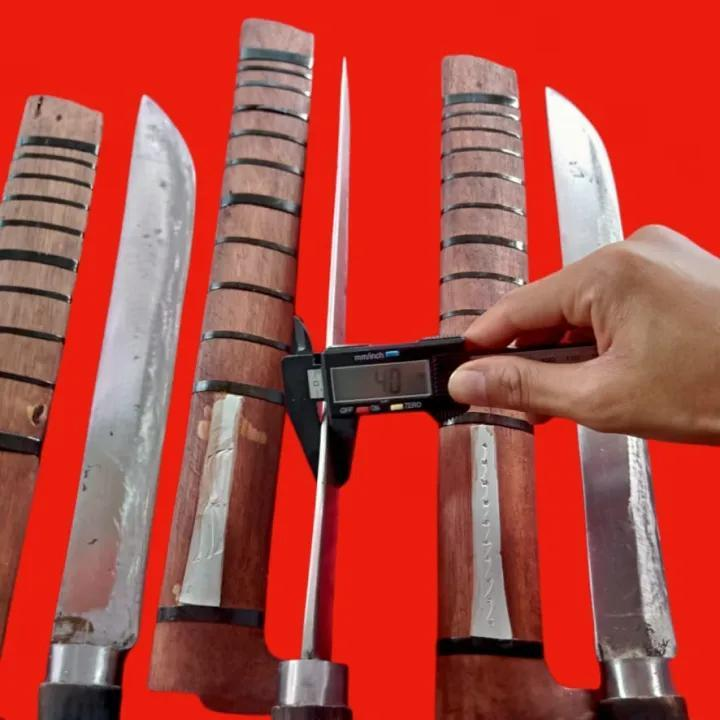facao: (33, 98, 208, 720), (538, 77, 701, 720)
